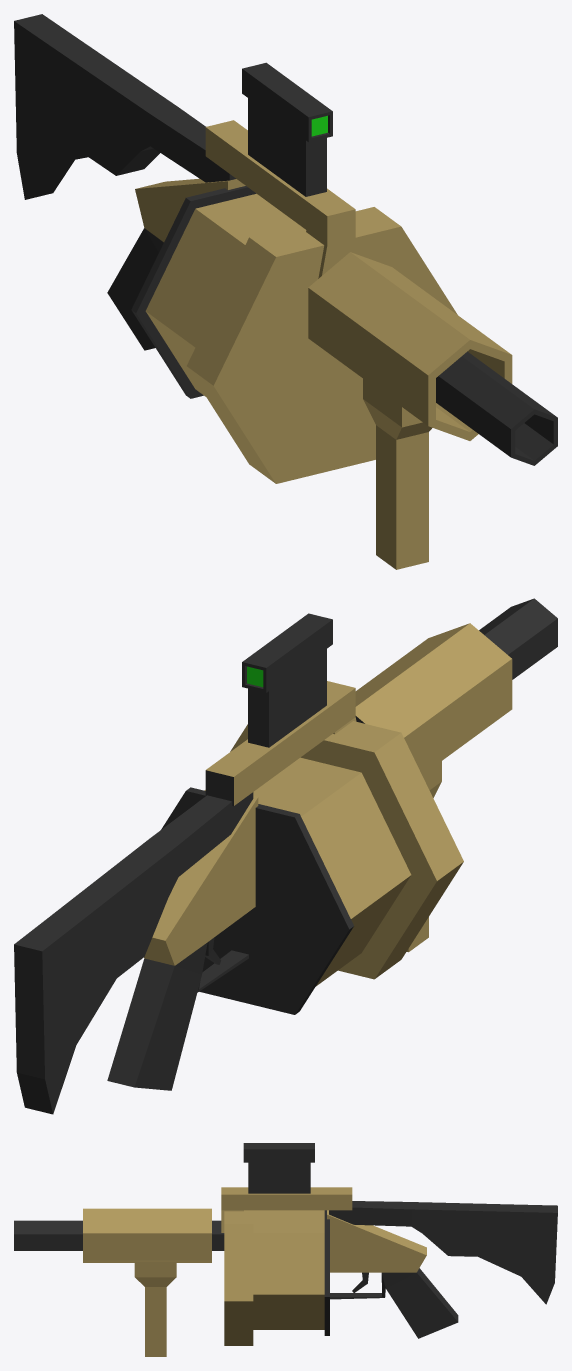
File: M32_Grenade_Launcher.fbx
The picture shows the model from 3 angles, top to bottom: view 1: azimuth 30°, elevation 25°; view 2: azimuth 150°, elevation 25°; view 3: azimuth 270°, elevation 25°; orthographic projection. The views are drawn at different scales.
Visible parts, largest first — view 1: M32_Grenade_Launcher; view 2: M32_Grenade_Launcher; view 3: M32_Grenade_Launcher.
Part boxes in pixels (x1=…): M32_Grenade_Launcher: x1=14, y1=14, x2=557, y2=569; M32_Grenade_Launcher: x1=14, y1=598, x2=557, y2=1114; M32_Grenade_Launcher: x1=14, y1=1143, x2=557, y2=1356.
Bounding box in the file's own units: 22.26 × 32.65 × 77.94.
